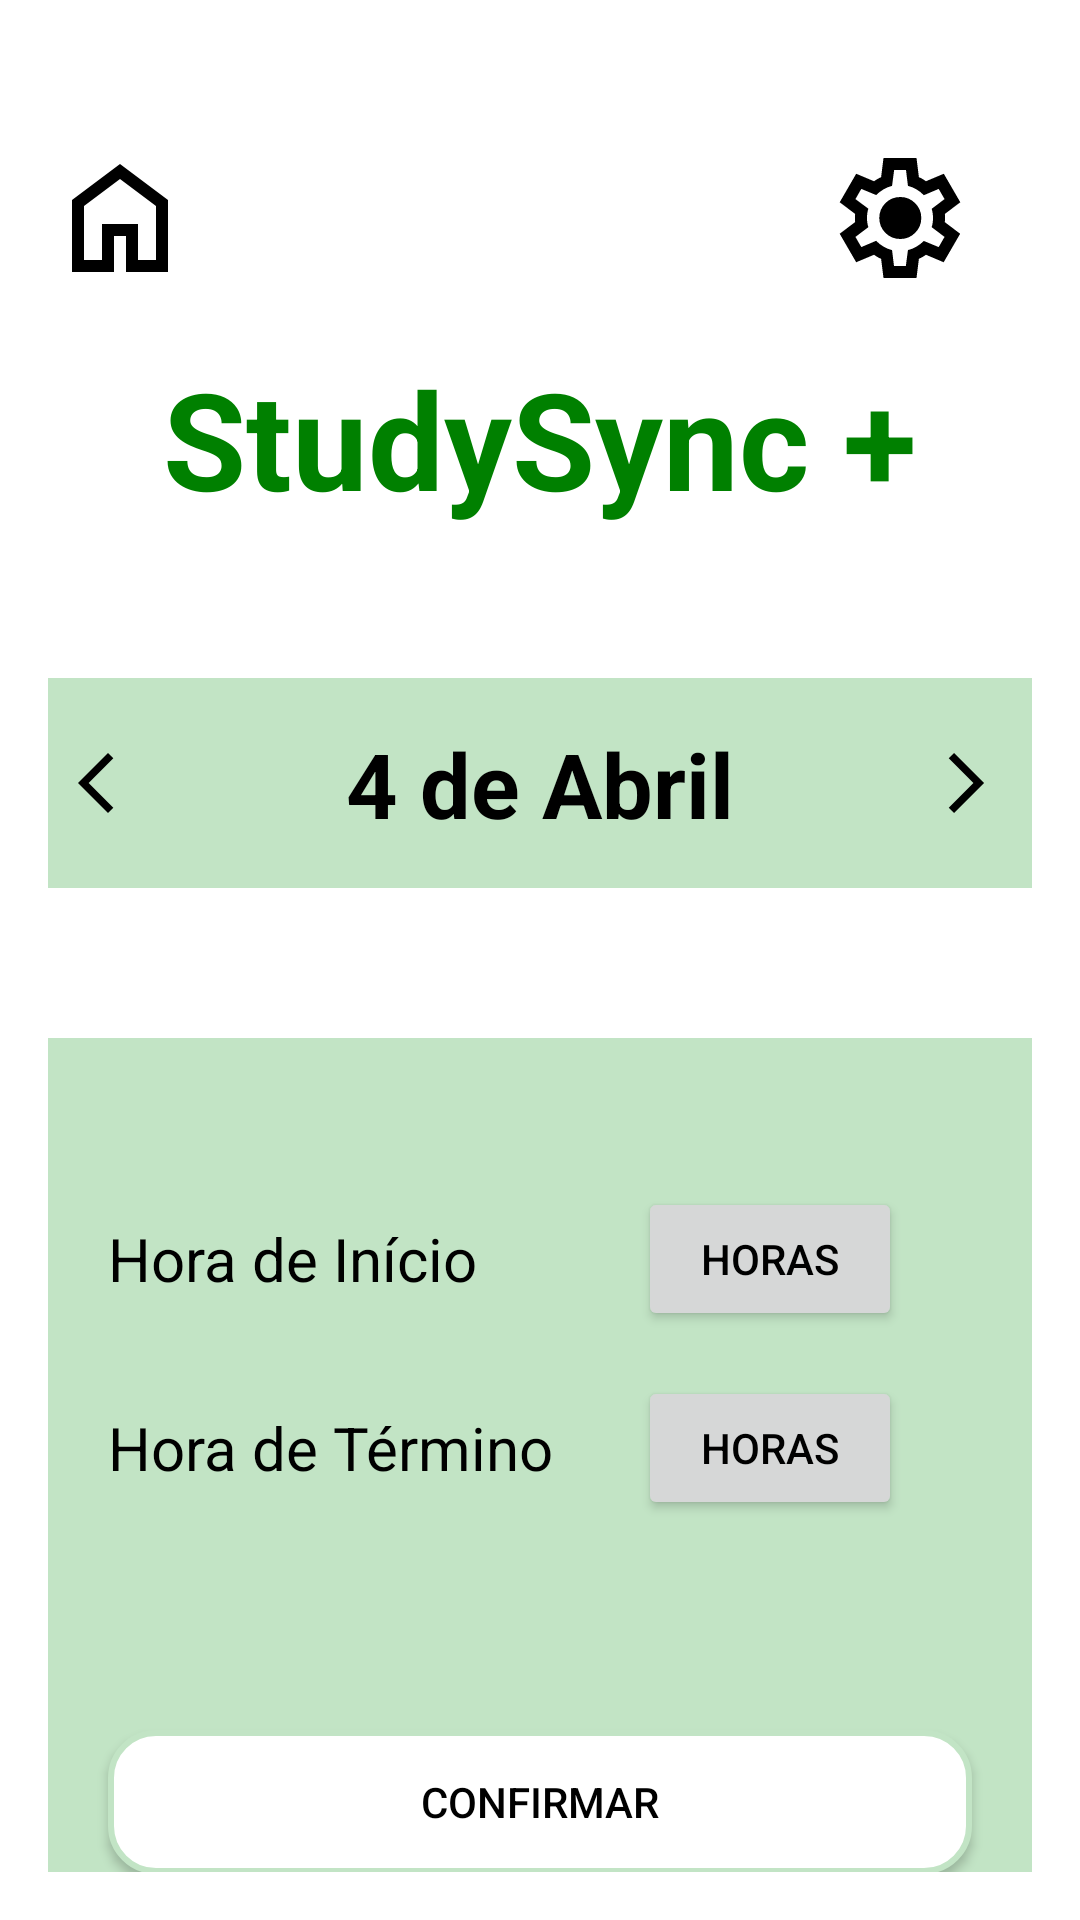

Locate icon controls on the screen. Image size 1080 × 1920, boxes as (x1, y1, x2, y2).
arrow back: (78, 753, 113, 813)
arrow foward: (949, 753, 984, 813)
home: (72, 164, 168, 272)
settings cog: (839, 158, 961, 278)
